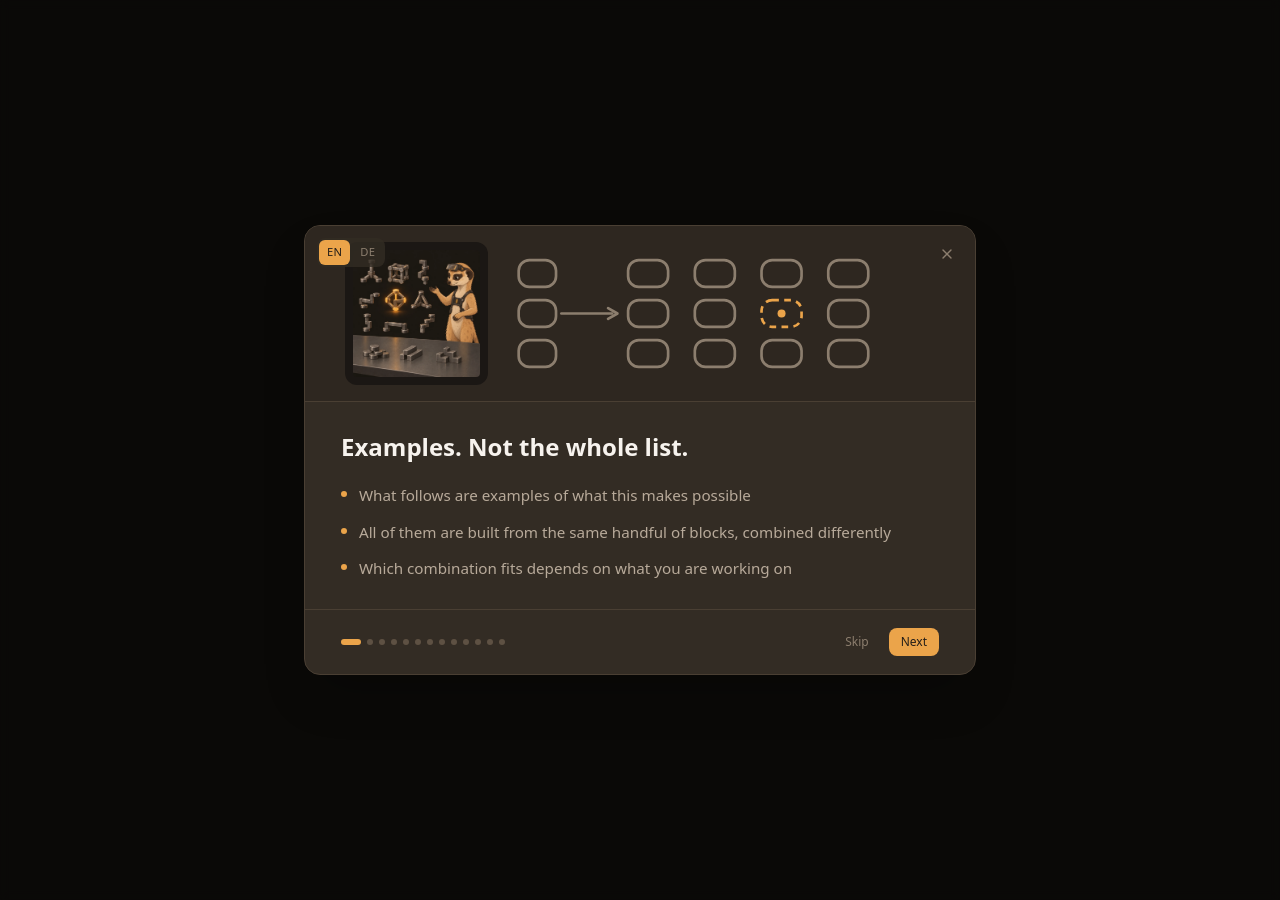
Test: Walkthrough › switches the copy language without leaving the panel
The image size is (1280, 900).
Expected: the heading "Examples. Not the whole list." is shown, top-left (341, 430), bottom-right (688, 463)
The label is upper-cased by CSS, so the accessible name stays the lower-case locale code.
Step 1. Click the button "de" → (368, 252), box top-left (352, 240), bottom-right (383, 265)
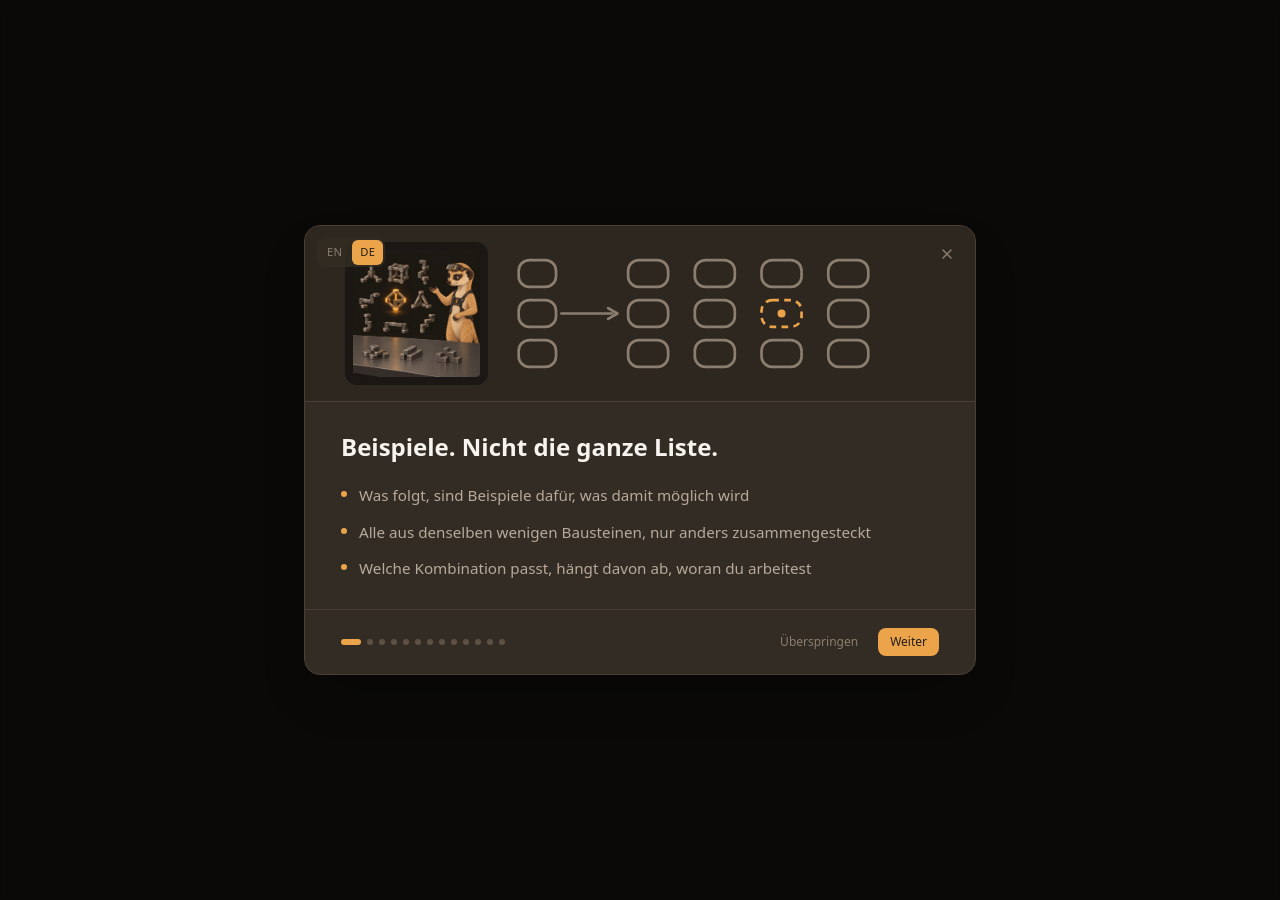
Result: the heading "Beispiele. Nicht die ganze Liste." is shown at top-left (341, 430), bottom-right (718, 463)
